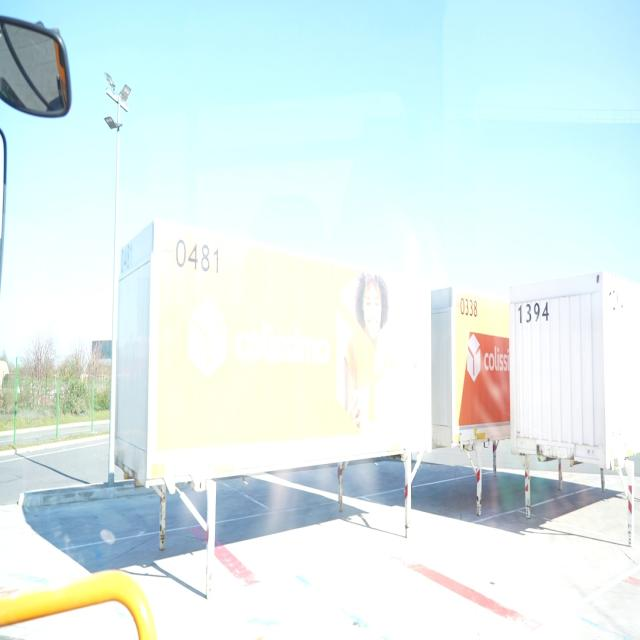Code: (172, 231, 228, 281), (514, 298, 554, 330), (457, 291, 481, 325)
